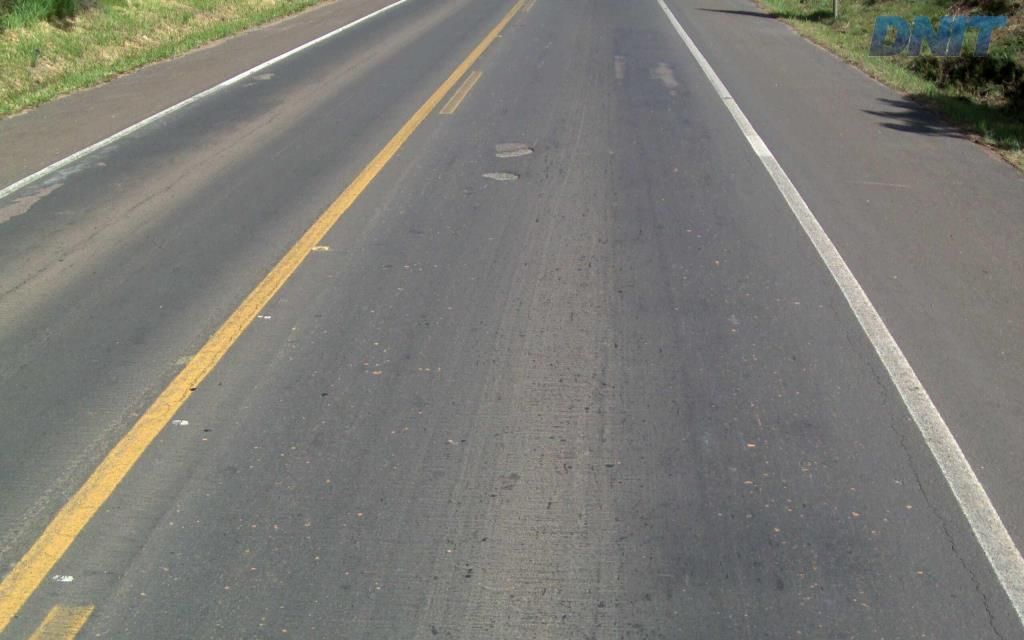pothole: (491, 142, 532, 161), (476, 169, 521, 184)
